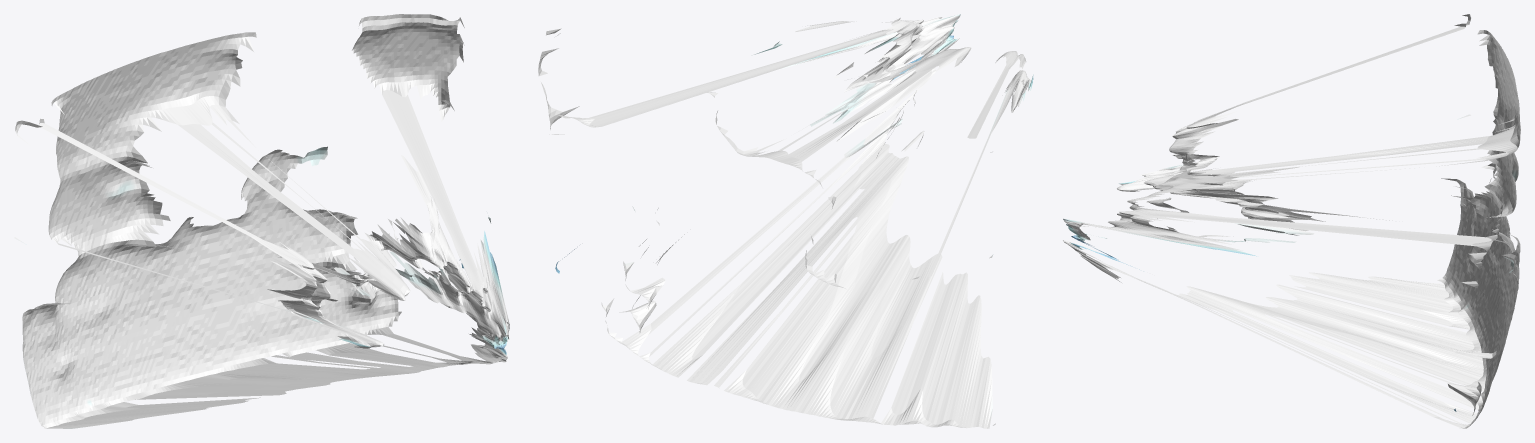
The picture shows the model from 3 angles, left to right: view 1: azimuth 30°, elevation 25°; view 2: azimuth 150°, elevation 25°; view 3: azimuth 270°, elevation 25°; orthographic projection. The views are drawn at different scales.
Parts seen in each view (by area): view 1: defaultobject; view 2: defaultobject; view 3: defaultobject.
Boxes of the visible parts, bbox=[...] form: defaultobject: bbox=[14, 14, 509, 428]; defaultobject: bbox=[538, 14, 1033, 428]; defaultobject: bbox=[1062, 14, 1520, 428].
Size of the model in its own units: 40.5 by 27.44 by 40.77.
1 material, 1 textured.
